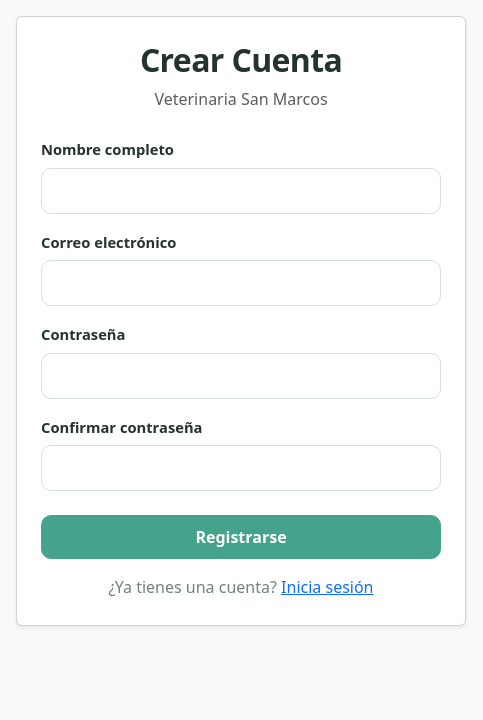
Test: RegistroPage › rechaza contraseñas que no coinciden
The width and height of the screenshot is (483, 720).
Step 1. Type "Ana Pérez" into the field labelled "Nombre completo" → (241, 190), box [41,168,441,214]
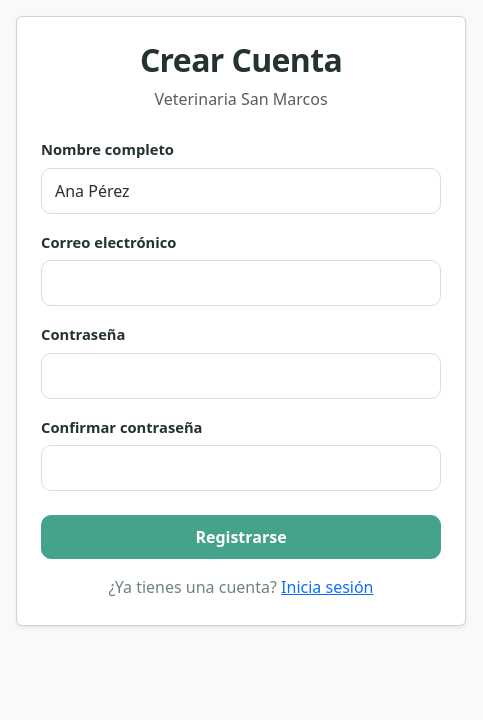
Step 2. Type "ana@correo.cl" into the field labelled "Correo electrónico" → (241, 283), box [41,260,441,306]
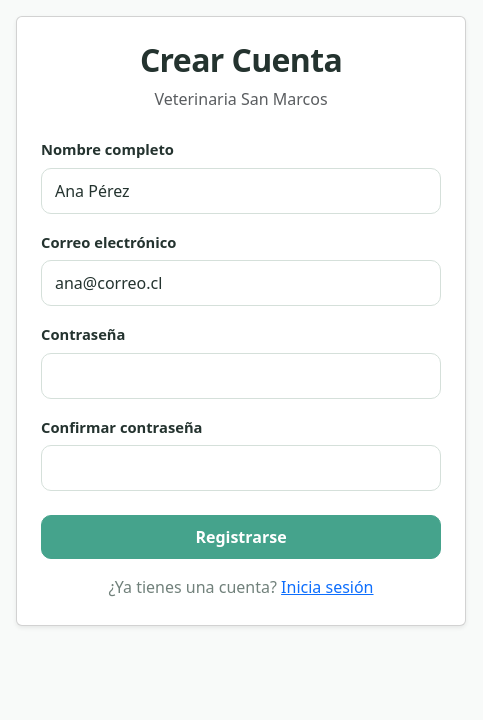
Step 3. Type "abcd" into the password field labelled "Contraseña" → (241, 376), box [41,353,441,399]
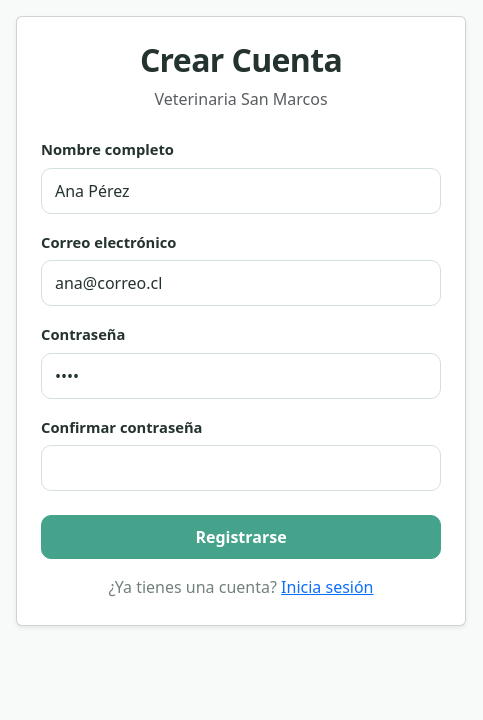
Step 4. Type "otra" into the password field labelled "Confirmar contraseña" → (241, 468), box [41,445,441,491]
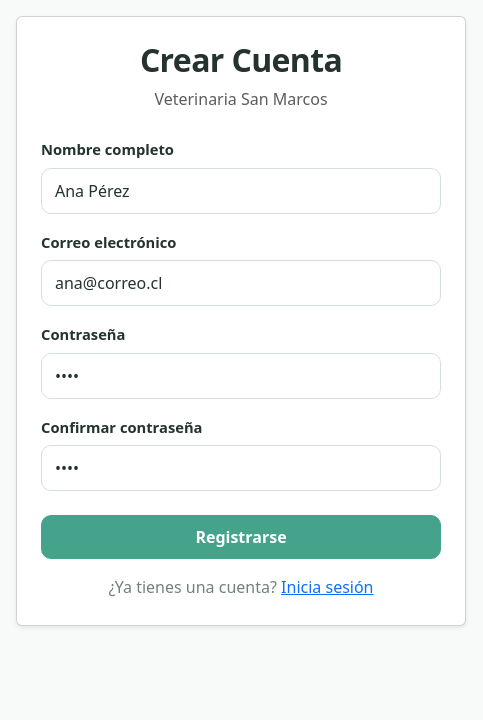
Step 5. Click the button "Registrarse" → (241, 537), box [41,515,441,559]
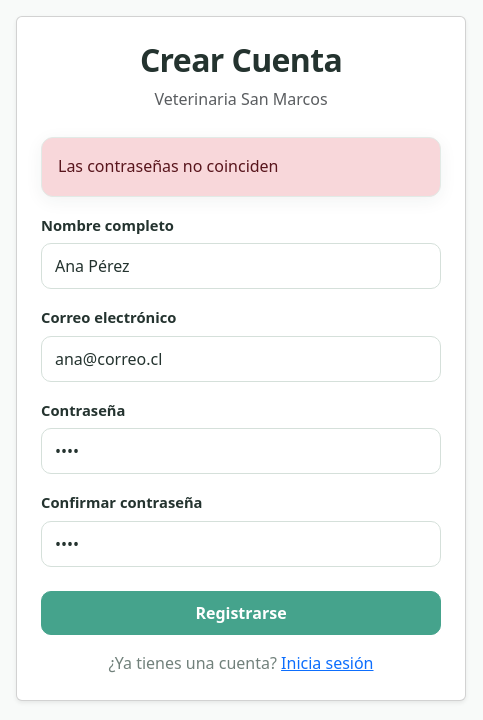
Check: the message reads "Las contraseñas no coinciden", box [58,155,278,177]
